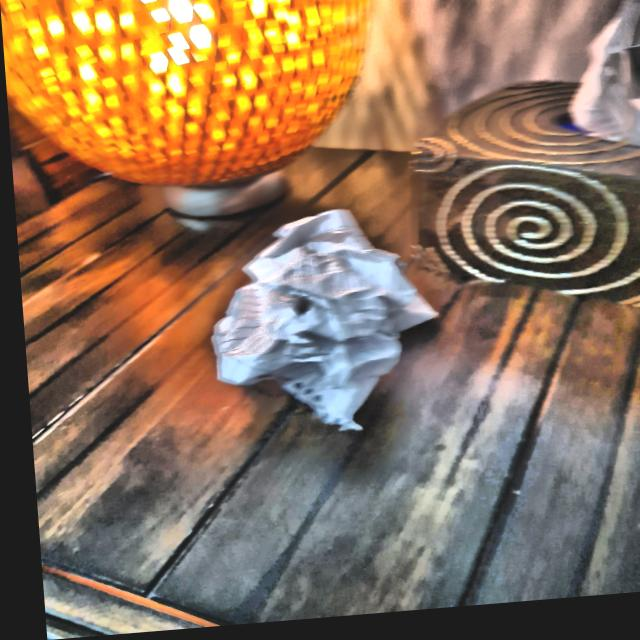Paper: (198, 203, 435, 430)
